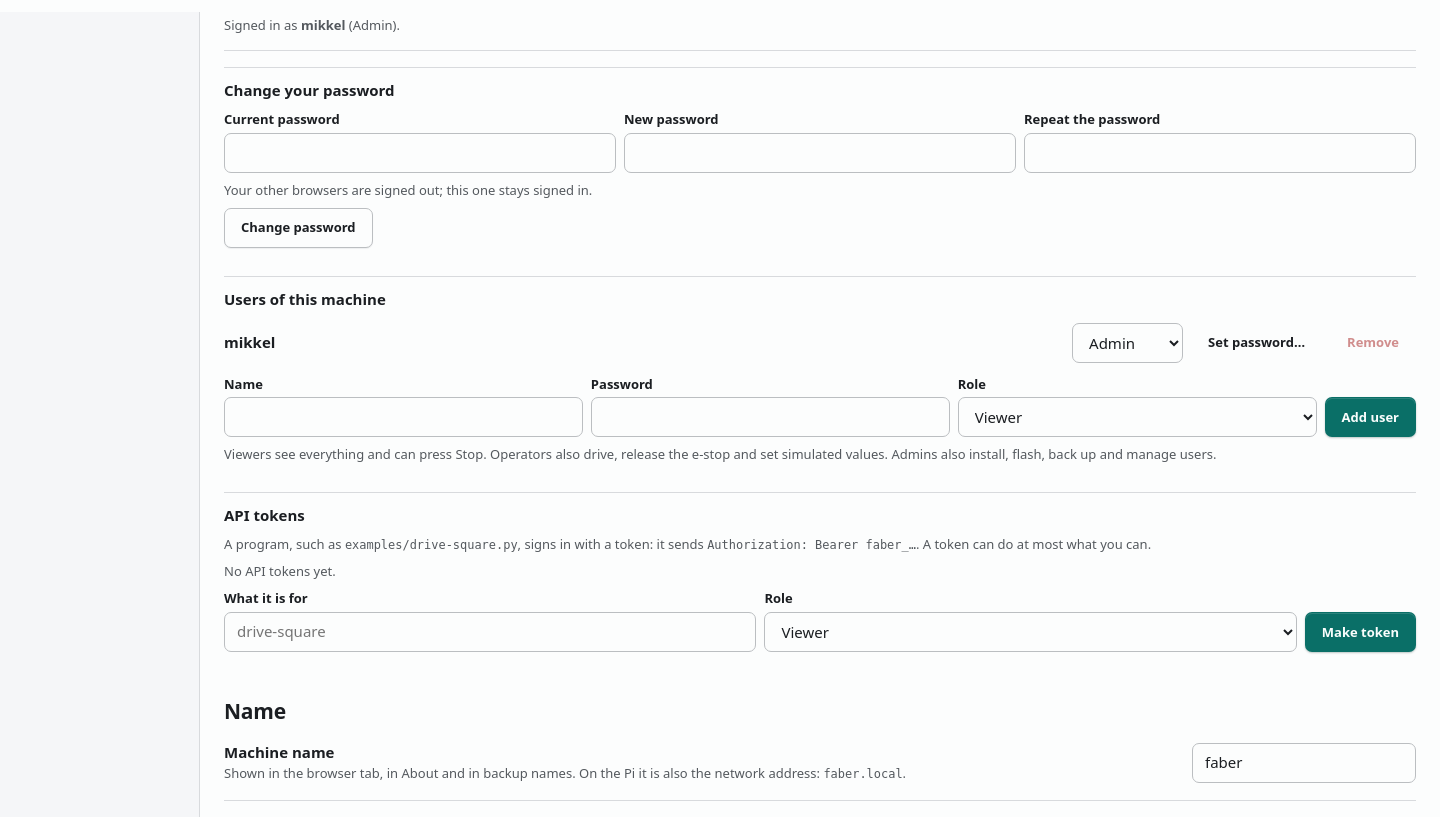
Settings → Users, as an admin › lists the users and adds one
Expected: the text "mikkel" next to "(Admin)." is shown, [301, 16, 345, 34]
Step 1. Type "Vic" into the field labelled "Name" → {"x": 403, "y": 417}, box [224, 397, 583, 437]
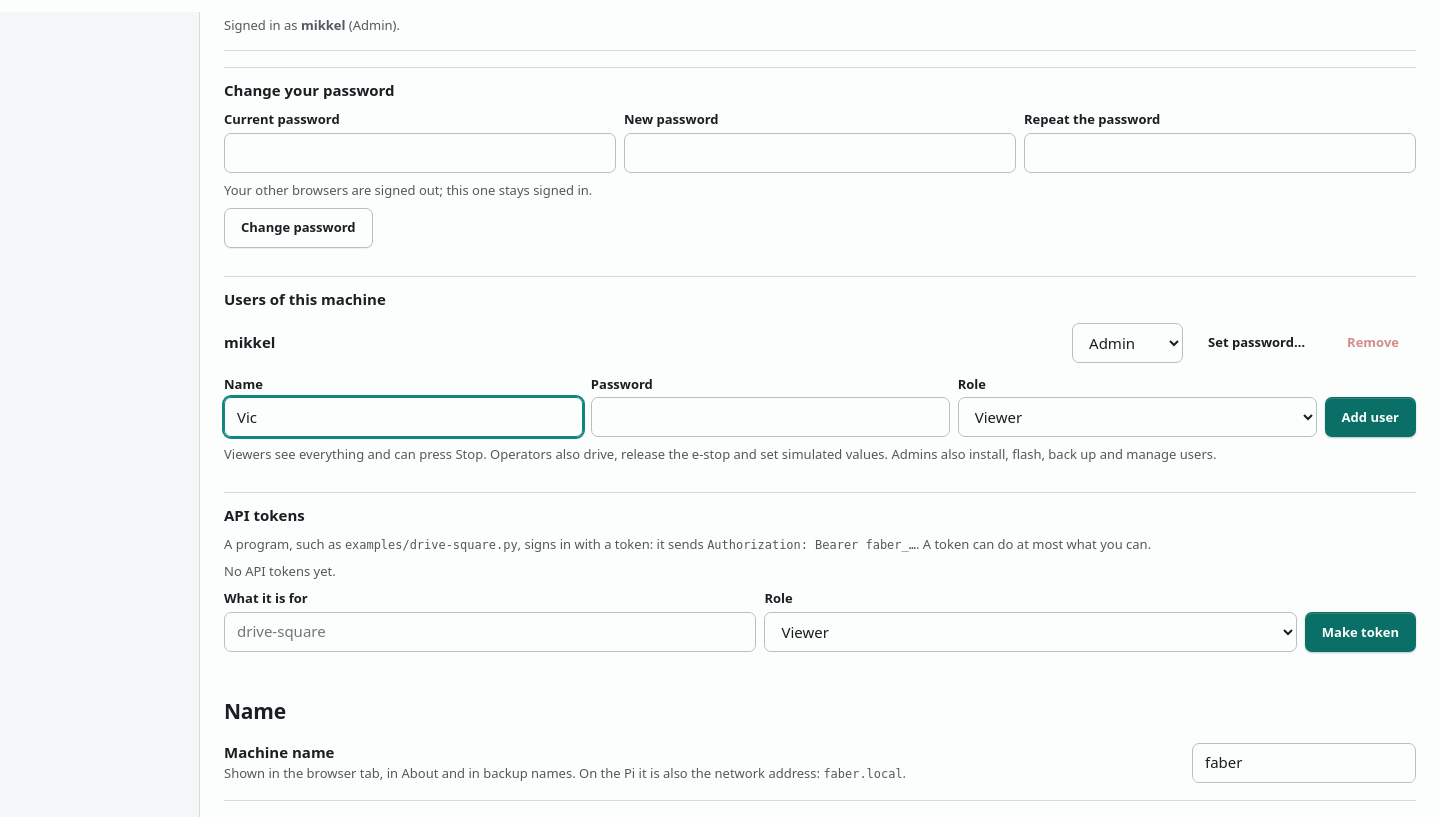
Step 2. Type "password1" into the password field labelled "Password" → {"x": 770, "y": 417}, box [591, 397, 950, 437]
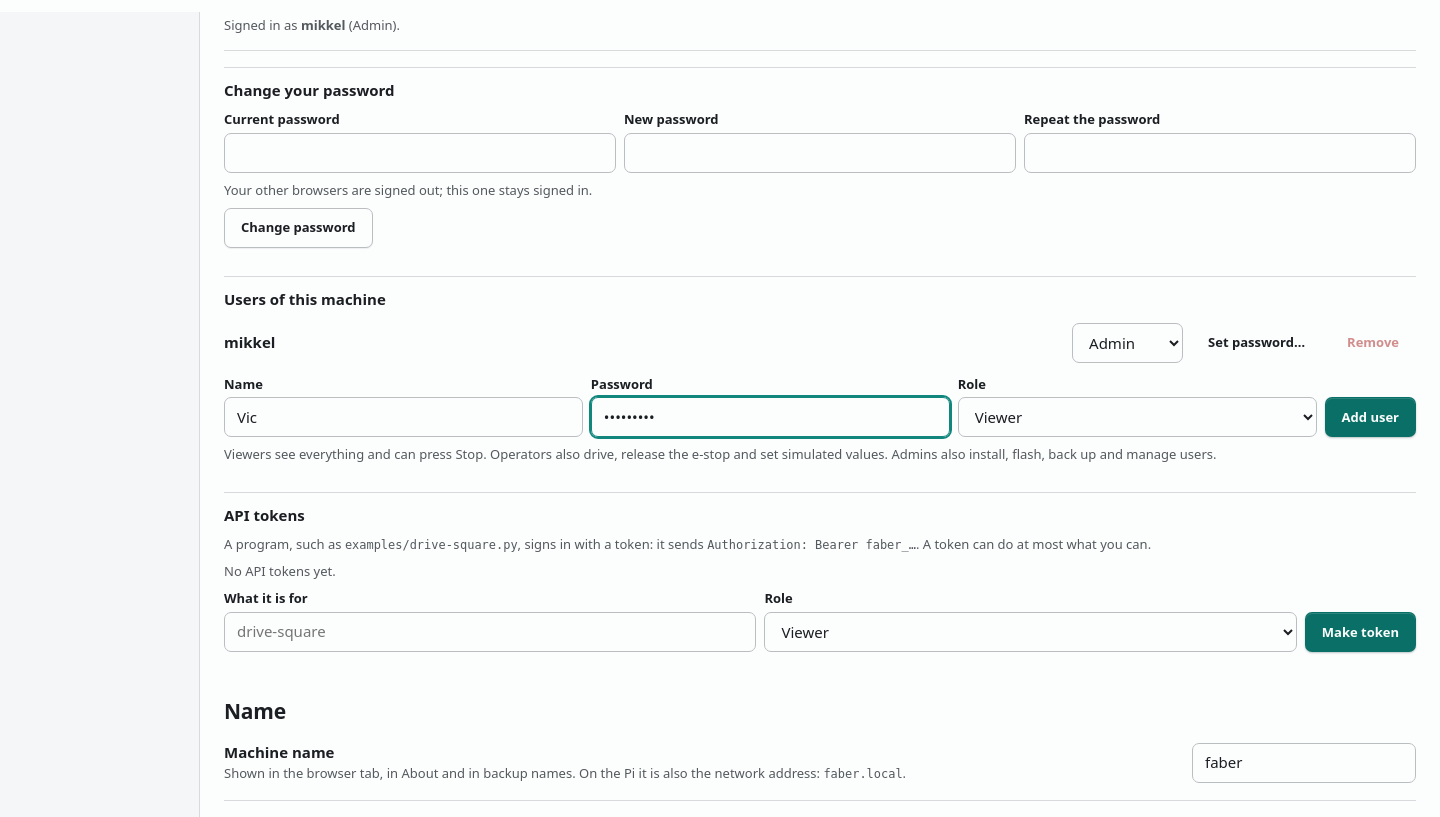
Step 3. Click the button "Add user" → {"x": 1370, "y": 417}, box [1325, 397, 1416, 437]
(page scrolled)
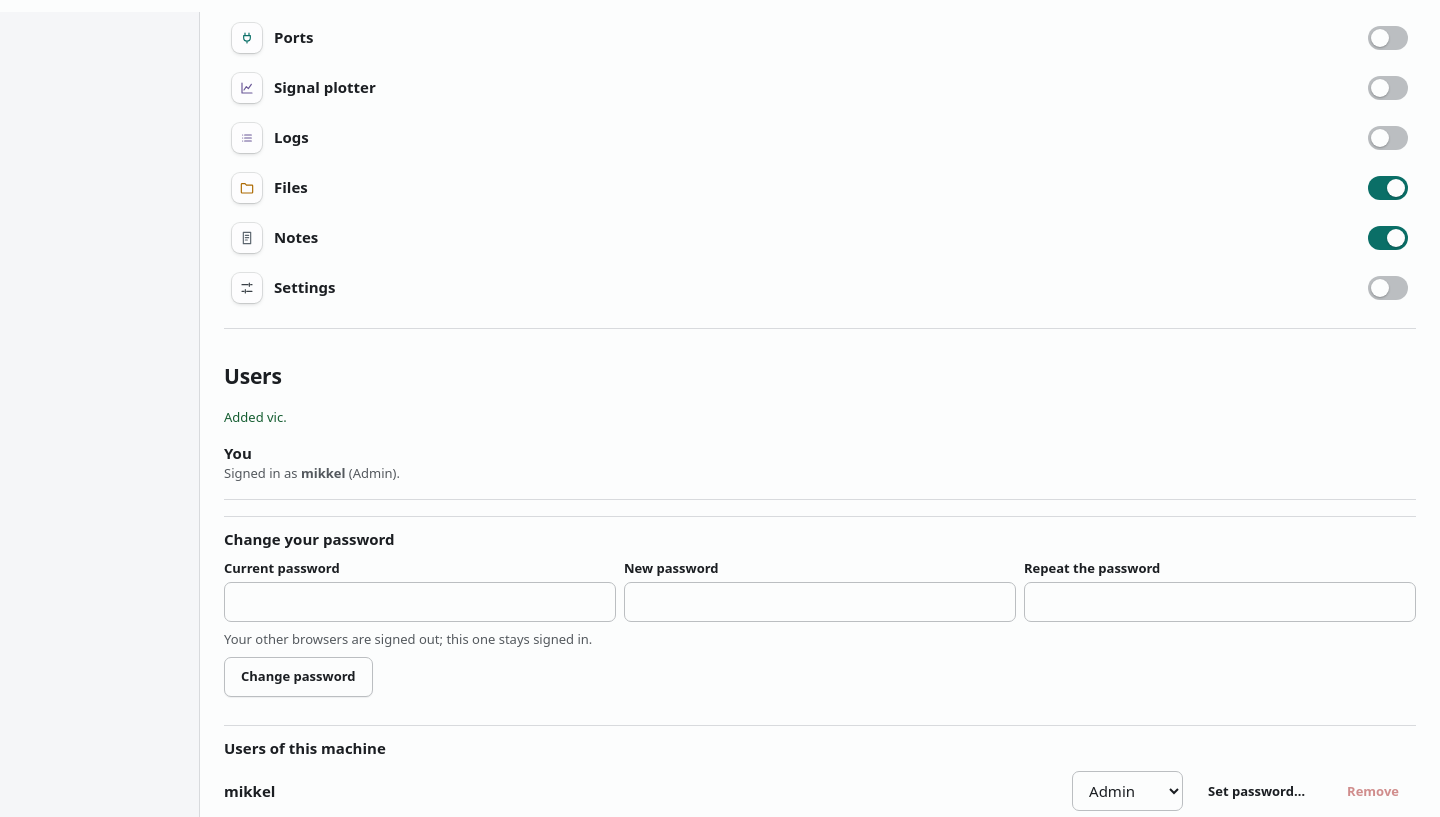
Expected: the text "Added vic." is shown, [224, 408, 287, 426]
